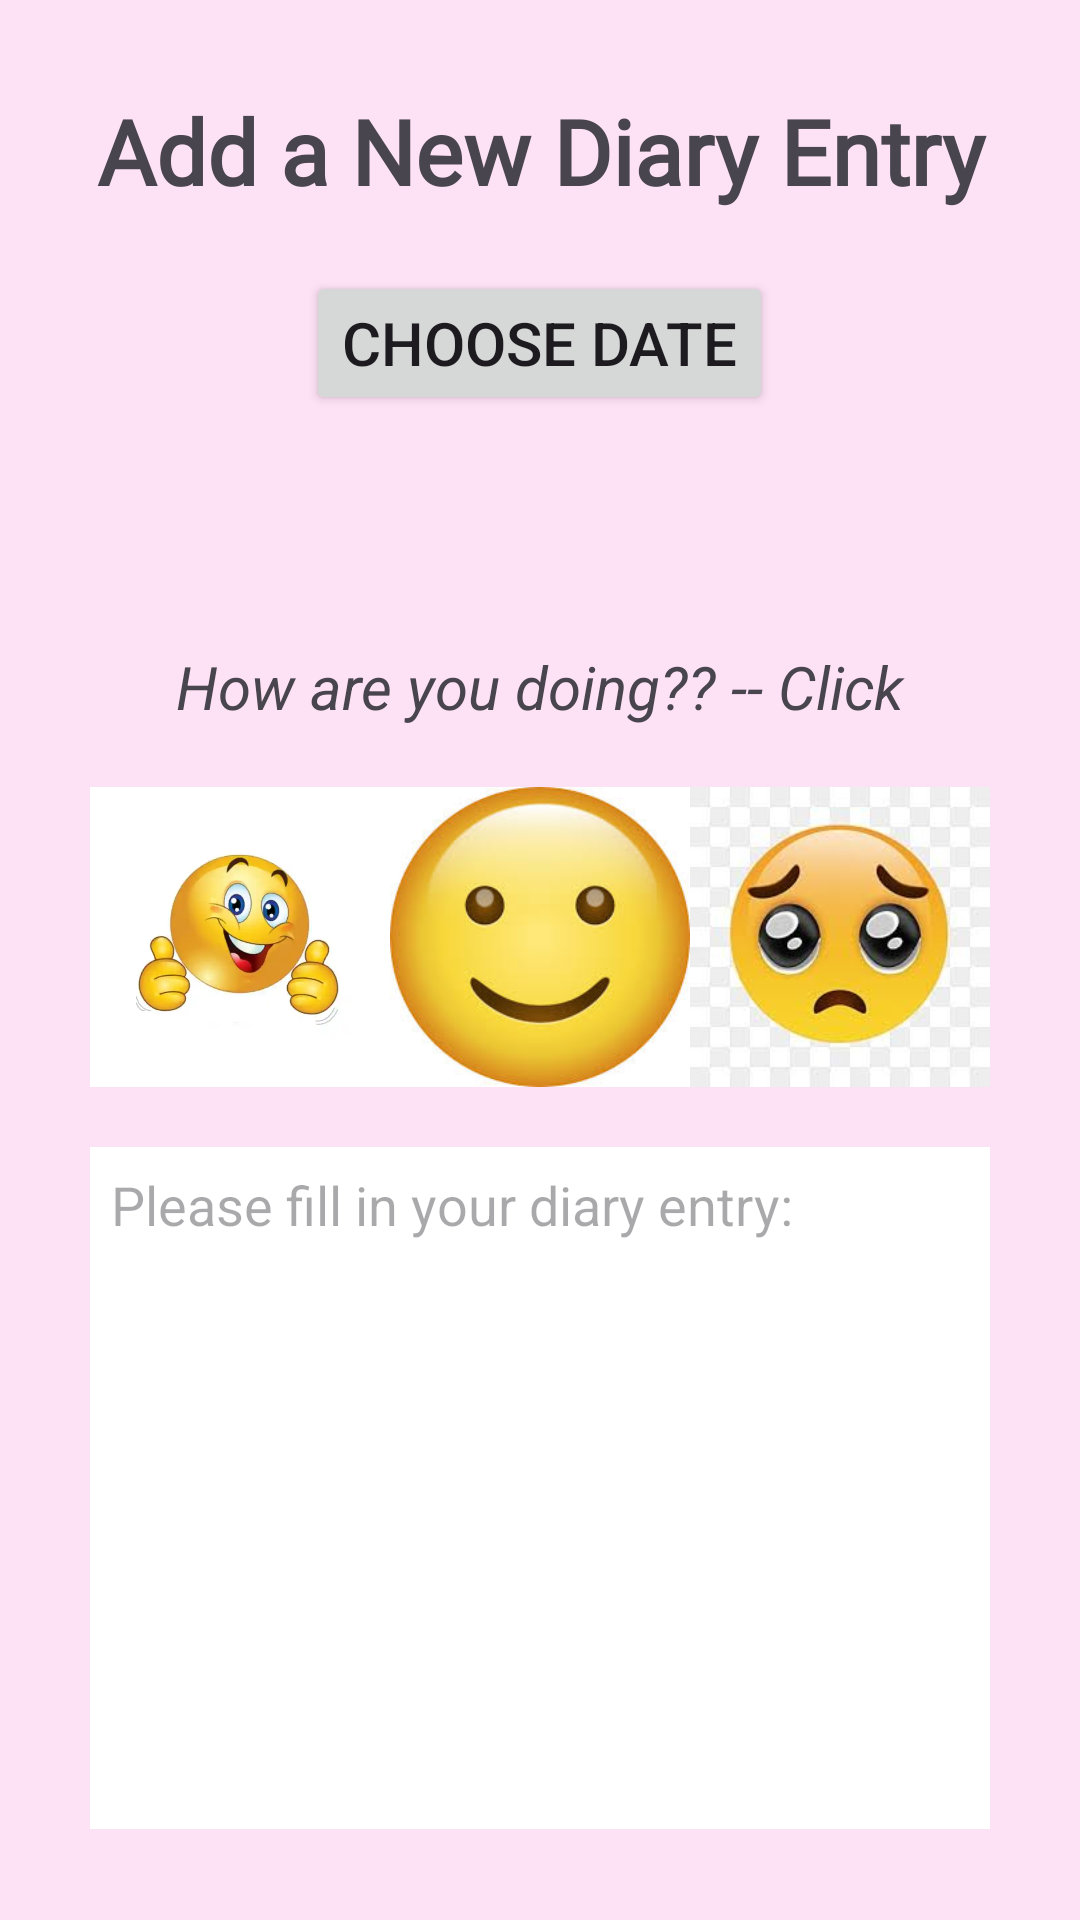

Icons on this 1080*1920 Android screen, each with its box as [x1=x1, y1=y1, x2=x2, y2=y2]:
content: [x1=390, y1=787, x2=690, y2=1087]
sad: [x1=690, y1=787, x2=990, y2=1087]
very happy: [x1=90, y1=787, x2=390, y2=1087]
